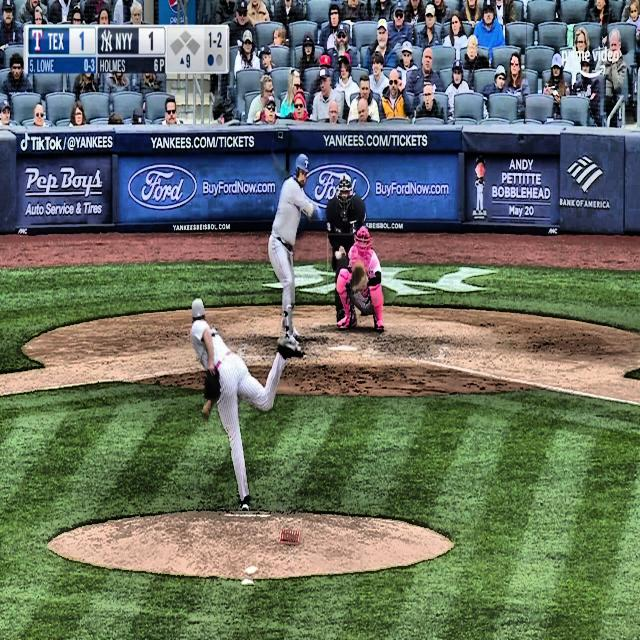baseball: (334, 250, 342, 262)
